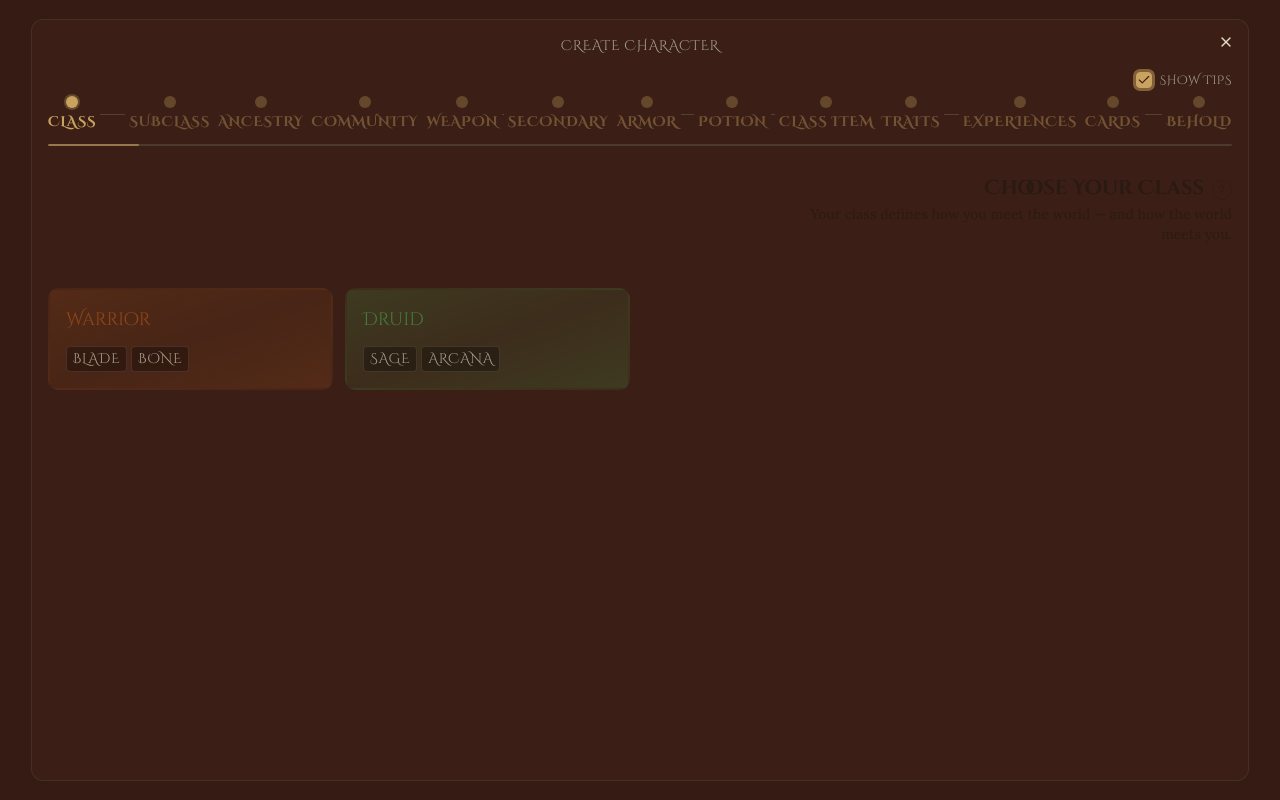
Test: CharacterWizard › shows back button on subclass step (class pick is now the first step and has none)
Click the text "Warrior".
click(108, 320)  # box [66,306,151,334]
(page scrolled)
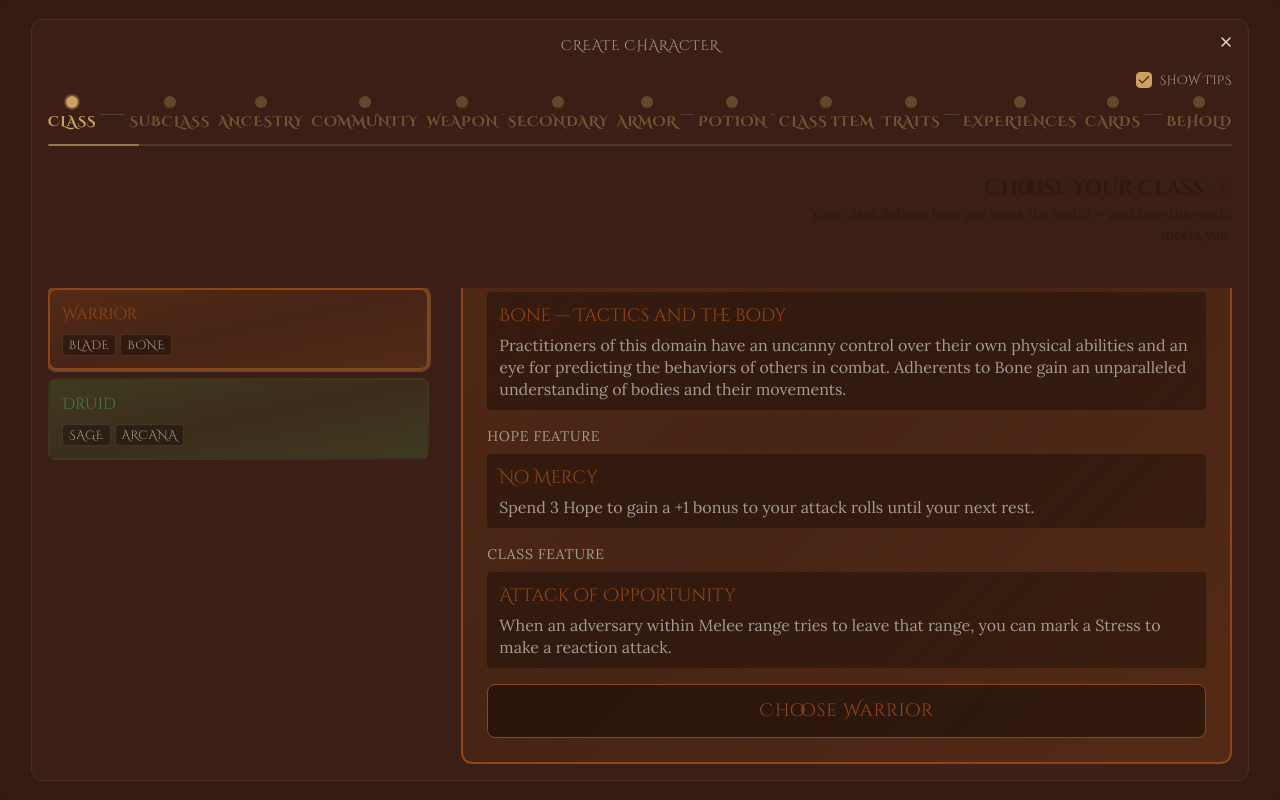
Click the button "Choose Warrior".
click(847, 711)  # box [487,684,1206,738]
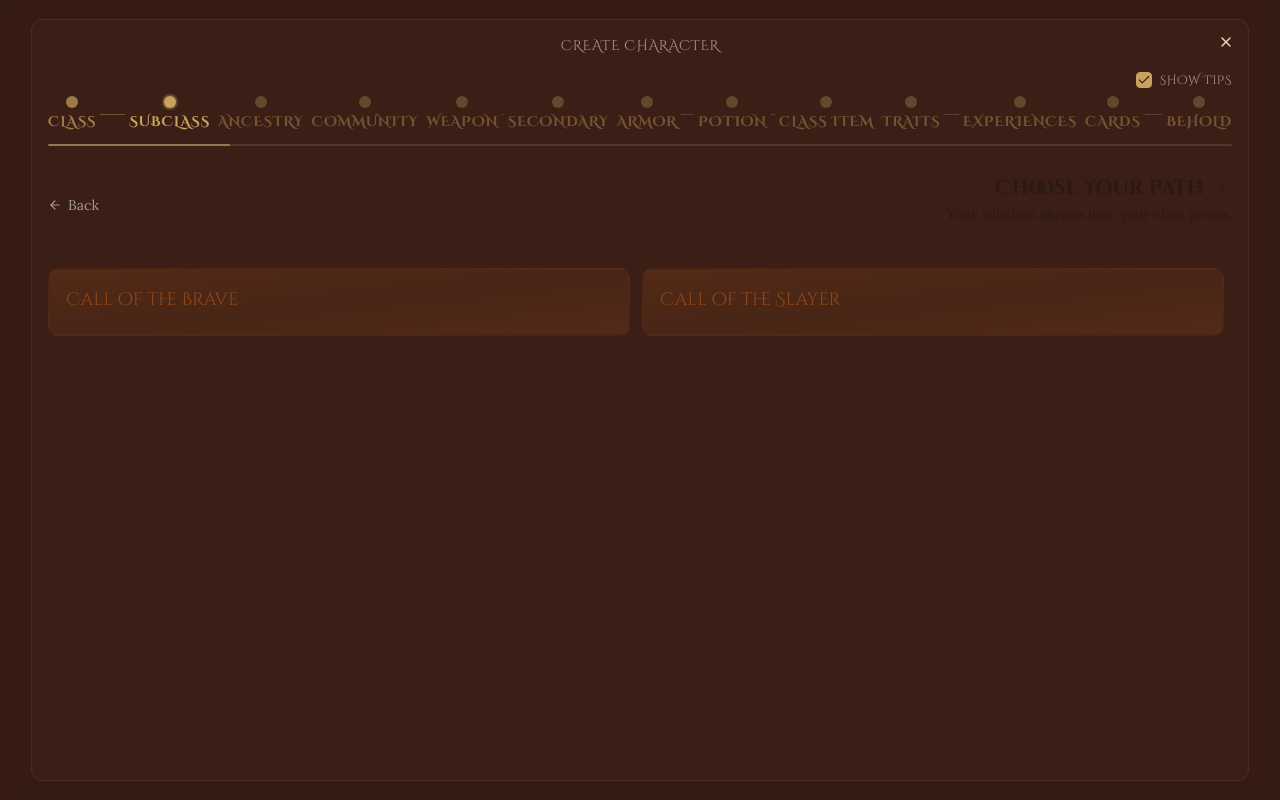
expect the button "Back" is shown: met, box [48,195,99,215]
